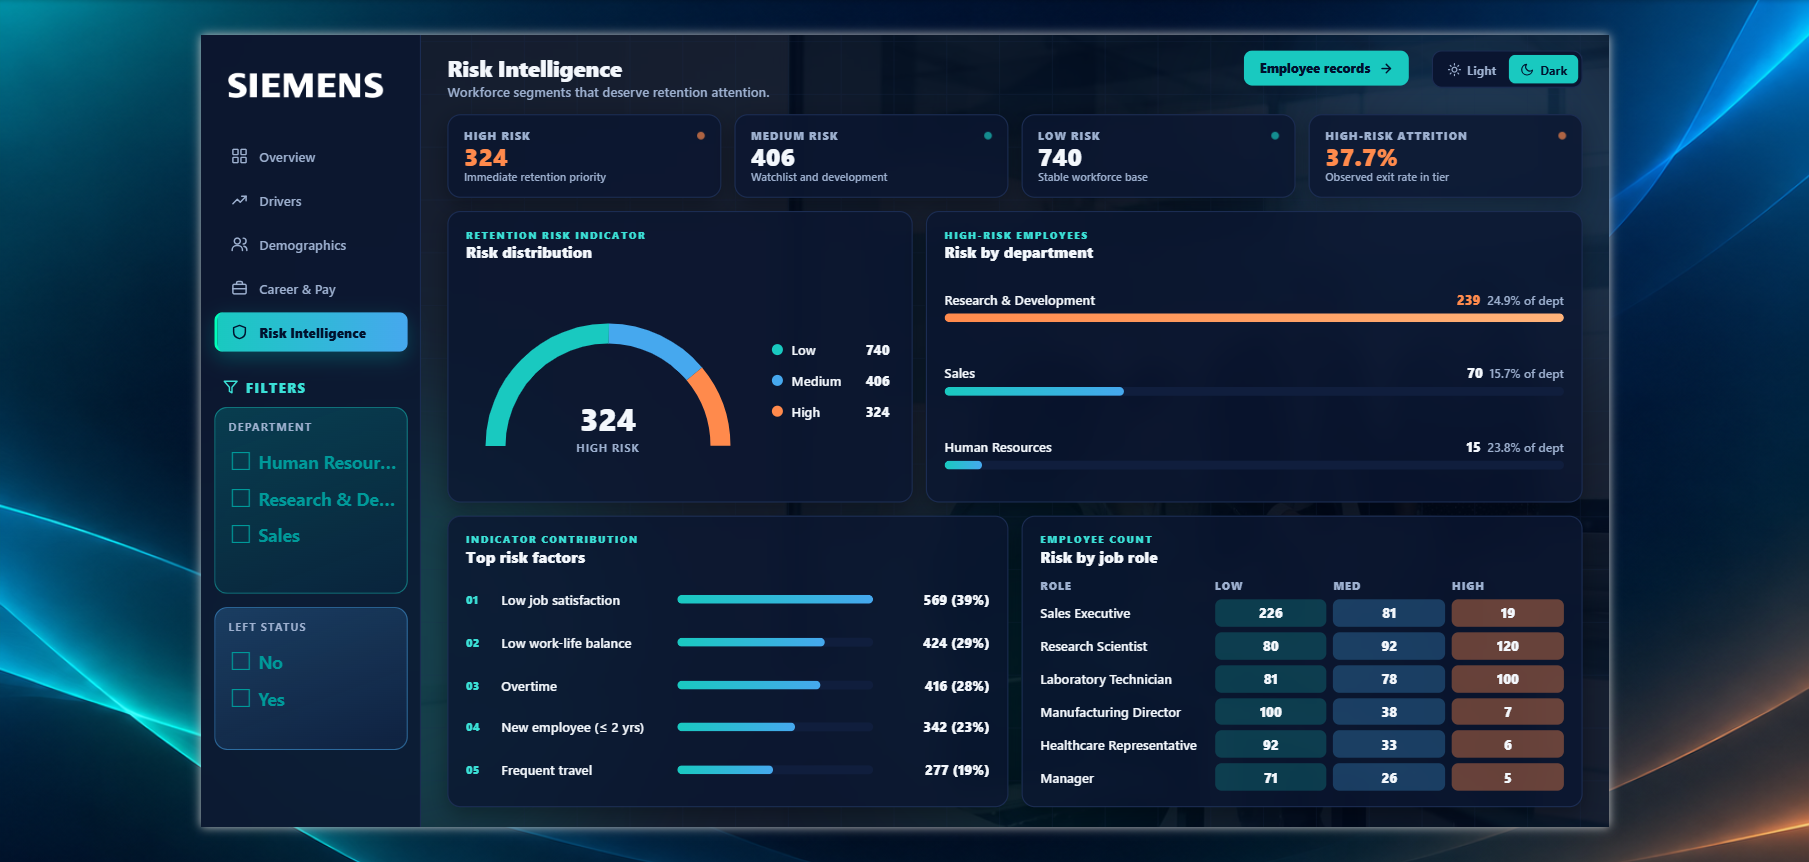

What the dashboard file says about the page in this screenshot:
{"tool":"powerbi","page":{"name":"Risk Intelligence Page","canvas":[1280,720],"ordinal":5},"visuals":[{"type":"htmlContent443BE3AD55E043BF878BED274D3A6855","fields":{"content":["HTML Visuals.Risk_Intelligence_Page"]},"box":[0,0,1280,720],"z":0},{"type":"actionButton","title":"Career & Pay","box":[12,212,176,36],"z":1000},{"type":"actionButton","title":"Demographics","box":[12,172,176,36],"z":2000},{"type":"actionButton","title":"Drivers","box":[12,132,176,36],"z":3000},{"type":"actionButton","title":"Overview","box":[12,92,176,36],"z":4000},{"type":"slicer","title":"Left Status Slicer","fields":{"Values":["fact_attrition.attrition"]},"box":[20,554,160,84],"z":4001},{"type":"slicer","title":"Department Slicer","fields":{"Values":["dim_department.department"]},"box":[20,372,160,124],"z":4002}]}

Visuals, with their boxes on the page's 1280x720 design canvas (x1, y1, x2, y2). These are canvas units, not pixel positions in the 1809x862 screenshot, which may show the page scaled, cropped or inside an application window:
htmlContent443BE3AD55E043BF878BED274D3A6855 - HTML Visuals.Risk_Intelligence_Page: [x1=0, y1=0, x2=1280, y2=720]
"Career & Pay" actionButton: [x1=12, y1=212, x2=188, y2=248]
"Demographics" actionButton: [x1=12, y1=172, x2=188, y2=208]
"Drivers" actionButton: [x1=12, y1=132, x2=188, y2=168]
"Overview" actionButton: [x1=12, y1=92, x2=188, y2=128]
"Left Status Slicer" slicer: [x1=20, y1=554, x2=180, y2=638]
"Department Slicer" slicer: [x1=20, y1=372, x2=180, y2=496]
